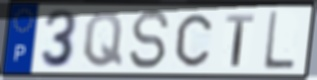3: (39, 8, 81, 71)
C: (174, 11, 214, 69)
L: (262, 10, 297, 72)
Q: (82, 10, 124, 70)
S: (127, 8, 172, 71)
T: (225, 13, 256, 69)
